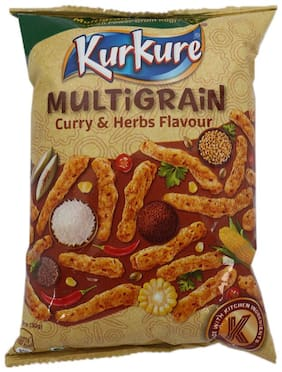kurkure: (65, 28, 210, 83)
plastic: (12, 10, 282, 365)
wrapper: (40, 43, 271, 372)
